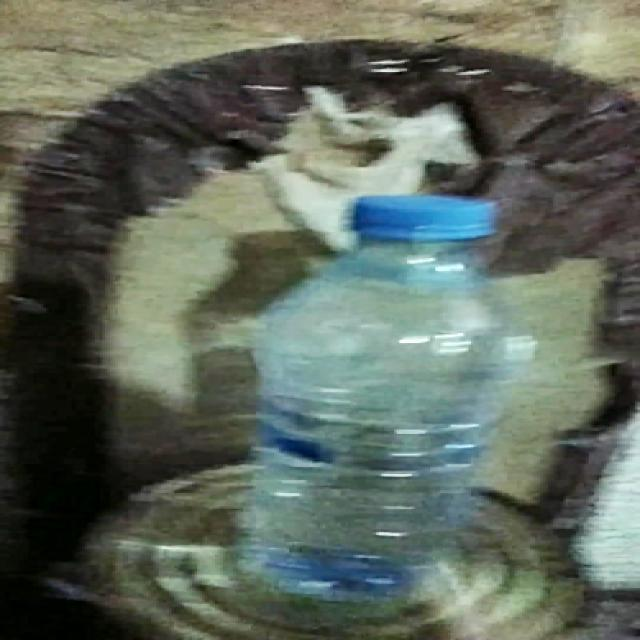plastic_bottle: (239, 195, 536, 603)
